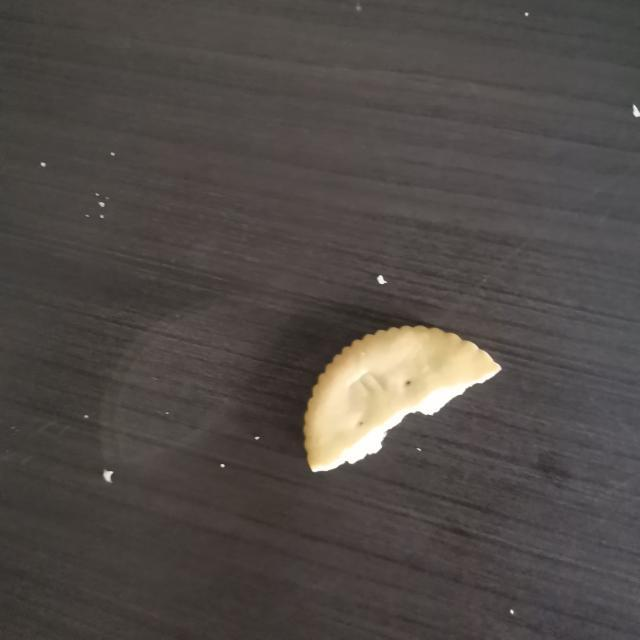Broken: (302, 323, 502, 473)
